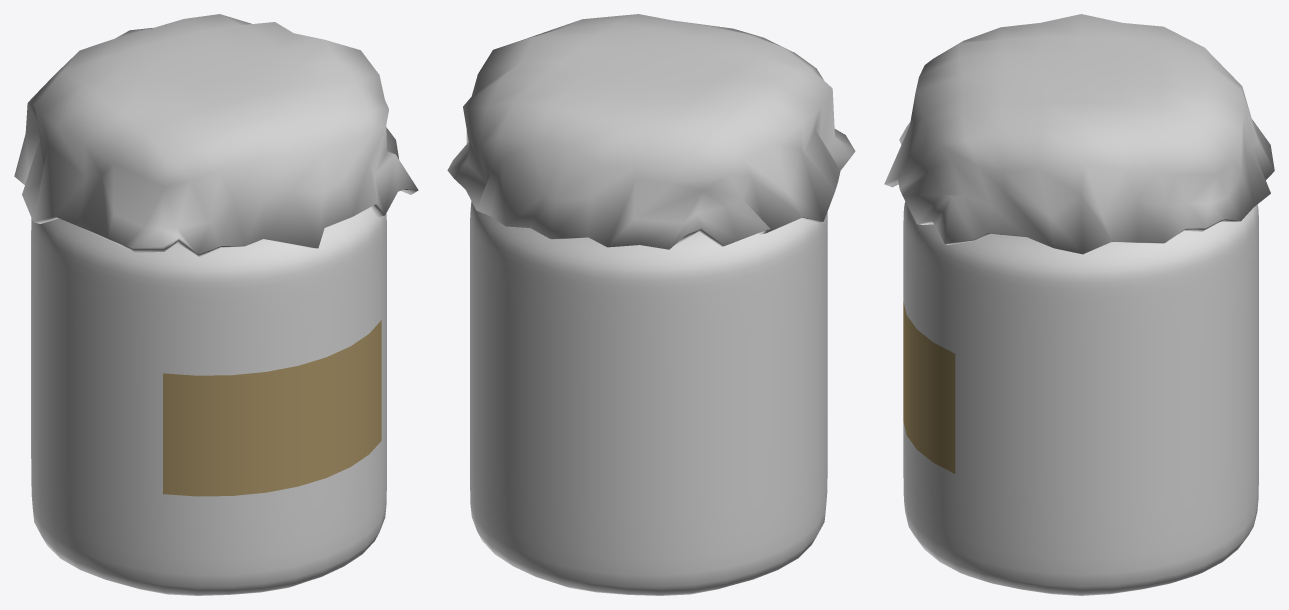
Rendered from Jam_jar.fbx.
3 renders of one model, left to right at view 1: azimuth 30°, elevation 25°; view 2: azimuth 150°, elevation 25°; view 3: azimuth 270°, elevation 25°, orthographic.
Visible parts, largest first — view 1: Jam_jar; view 2: Jam_jar; view 3: Jam_jar.
Boxes of the visible parts, x1=… form: Jam_jar: x1=14, y1=14, x2=418, y2=595; Jam_jar: x1=447, y1=14, x2=855, y2=595; Jam_jar: x1=884, y1=14, x2=1274, y2=595.
Bounding box in the file's own units: 10.54 × 13.93 × 10.46.
